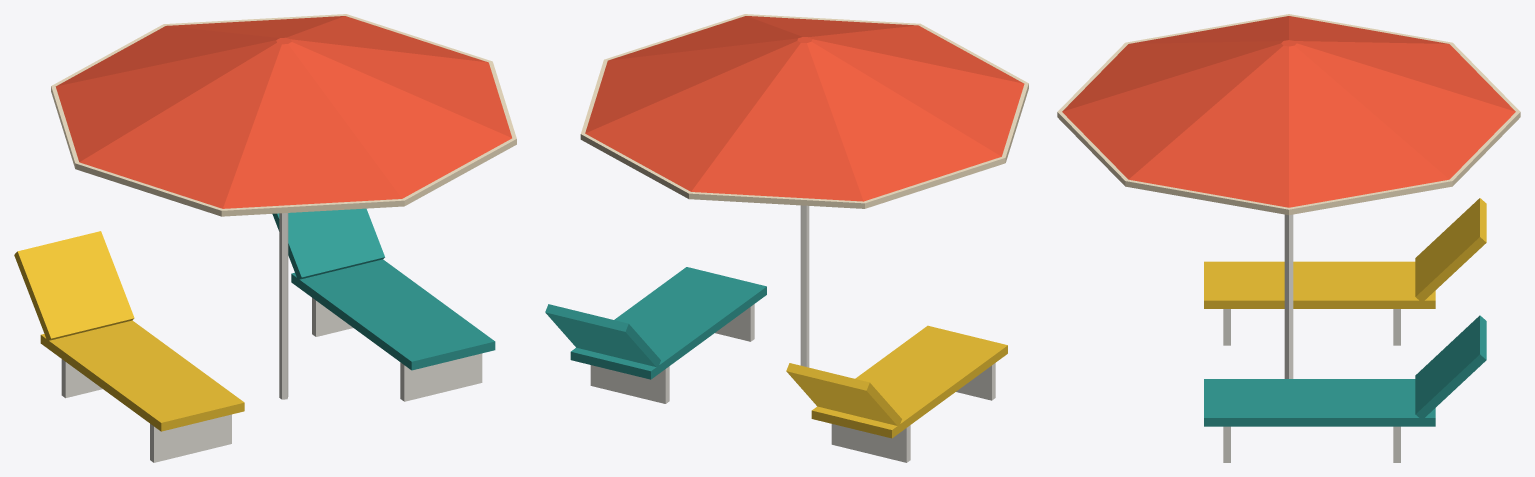
File: beach_set.glb
The picture shows the model from 3 angles, left to right: view 1: azimuth 30°, elevation 25°; view 2: azimuth 150°, elevation 25°; view 3: azimuth 270°, elevation 25°; orthographic projection. The views are drawn at different scales.
Visible parts, largest first — view 1: beach_set; view 2: beach_set; view 3: beach_set.
Boxes of the visible parts, <box> form: beach_set: <box>14,14,516,462</box>; beach_set: <box>545,14,1028,462</box>; beach_set: <box>1057,14,1520,462</box>.
Size of the model in its own units: 3 by 2.45 by 3.
